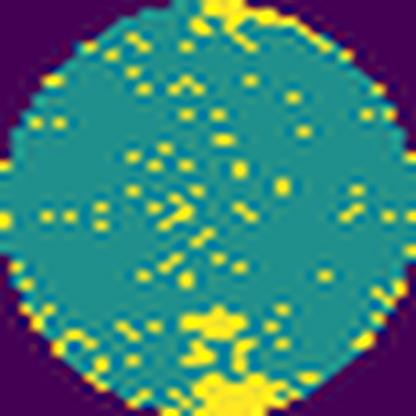Edge-Loc: (192, 0, 337, 57), (180, 369, 298, 416)
